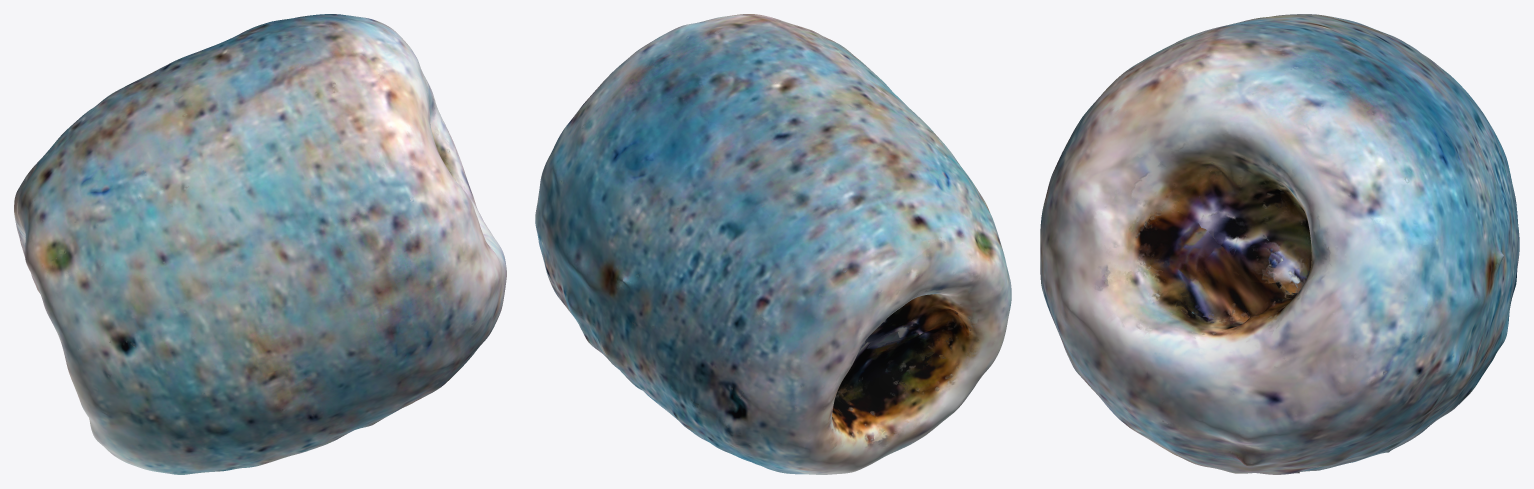
The model's file is bead-one.glb.
The picture shows the model from 3 angles, left to right: view 1: azimuth 30°, elevation 25°; view 2: azimuth 150°, elevation 25°; view 3: azimuth 270°, elevation 25°; orthographic projection. The views are drawn at different scales.
Parts seen in each view (by area): view 1: Object_2, Object_3; view 2: Object_3, Object_2; view 3: Object_2, Object_3.
Part boxes in pixels (left/top/right/bottom): Object_2: left=17, top=14, right=506, bottom=474; Object_3: left=14, top=14, right=504, bottom=453; Object_3: left=535, top=14, right=1003, bottom=474; Object_2: left=538, top=14, right=1011, bottom=474; Object_2: left=1040, top=14, right=1461, bottom=474; Object_3: left=1143, top=15, right=1519, bottom=474.
Size of the model in its own units: 0.3242 by 0.2861 by 0.2751.
Materials: 1 (1 with a texture image).
